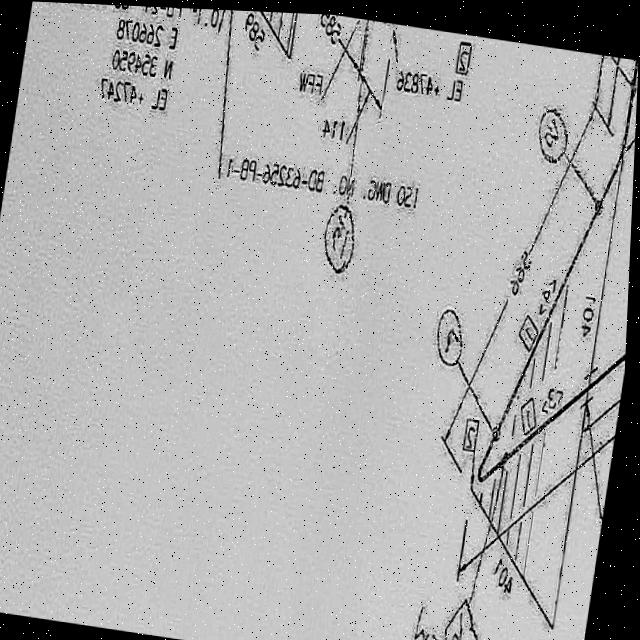Item number: (519, 306, 542, 354), (452, 32, 475, 74), (522, 389, 542, 434), (464, 409, 485, 451), (297, 66, 326, 93)
Measrement: (439, 89, 601, 450), (463, 477, 562, 640), (578, 152, 627, 371), (315, 57, 386, 145), (582, 375, 626, 442), (321, 11, 367, 71), (236, 9, 270, 63), (188, 7, 222, 33)
Pipeline: (475, 53, 639, 490)
Symbol: (589, 59, 639, 220), (475, 411, 519, 490)
Weld number: (317, 198, 363, 277), (531, 95, 576, 164), (433, 299, 474, 368)
other: (18, 1, 185, 121), (218, 149, 424, 209), (392, 60, 467, 101)
